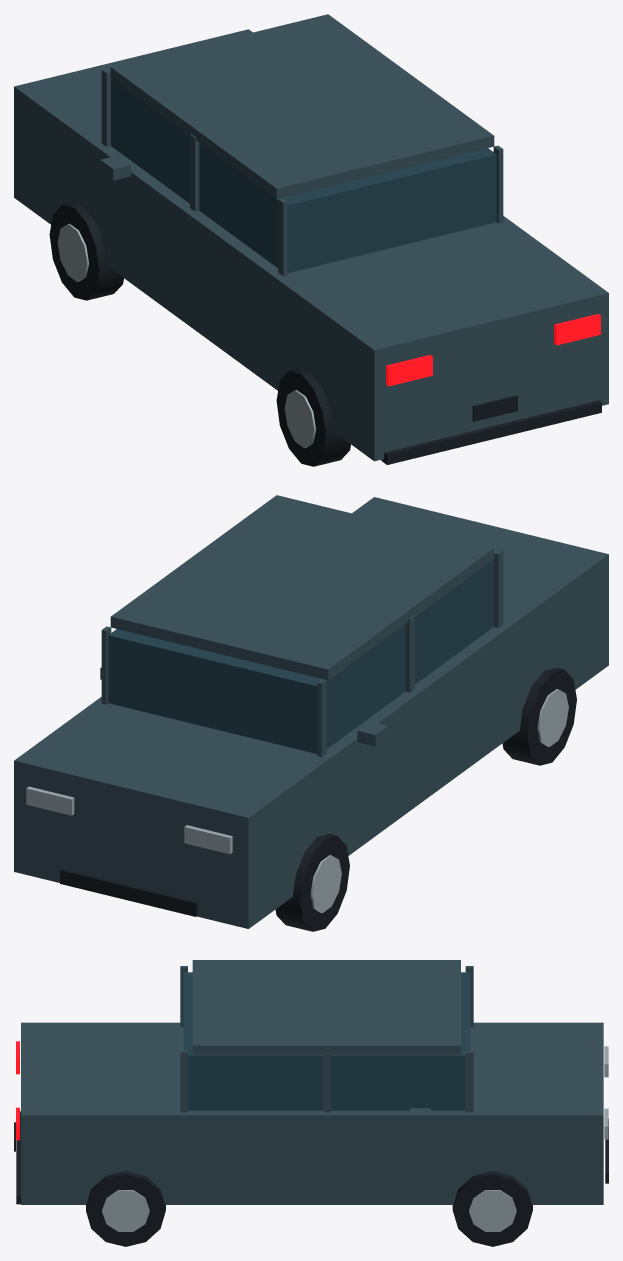
Rendered from traffic-suv.glb.
The picture shows the model from 3 angles, top to bottom: view 1: azimuth 30°, elevation 25°; view 2: azimuth 150°, elevation 25°; view 3: azimuth 270°, elevation 25°; orthographic projection. The views are drawn at different scales.
Visible parts, largest first — view 1: lod_body, lod_glass, lod_dark, lod_metal, brake_lights; view 2: lod_body, lod_glass, lod_dark, lod_metal; view 3: lod_body, lod_glass, lod_dark, lod_metal.
Boxes of the visible parts, x1,y1,x2,y2 form: lod_body: (14,14,608,461); lod_glass: (111,78,496,272); lod_dark: (49,203,601,466); lod_metal: (57,223,315,448); brake_lights: (386,314,600,386); lod_body: (14,495,608,928); lod_glass: (108,559,493,753); lod_dark: (60,668,576,931); lod_metal: (26,689,568,913); lod_body: (21,960,603,1204); lod_glass: (183,972,470,1110); lod_dark: (14,1111,608,1246); lod_metal: (102,1046,608,1231).
Size of the model in its own units: 2.12 by 1.77 by 4.9.
